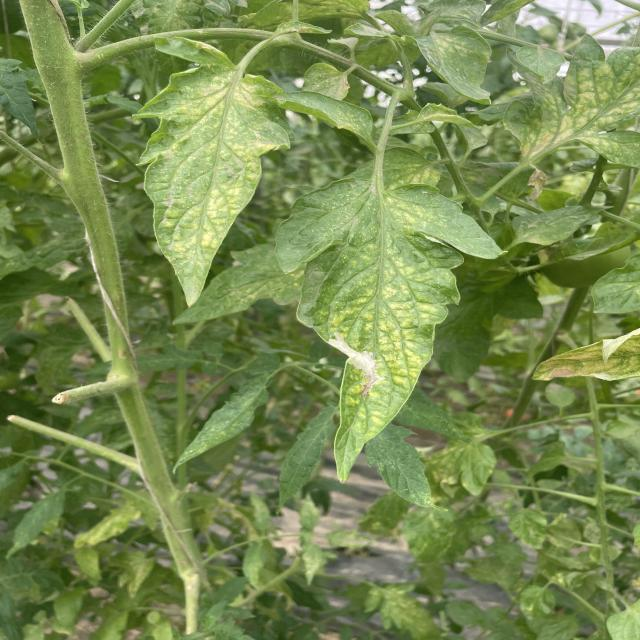Tuta absoluta: (326, 323, 389, 398)
